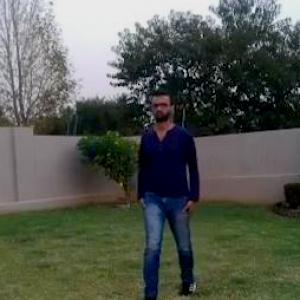follow: (138, 100, 190, 279)
